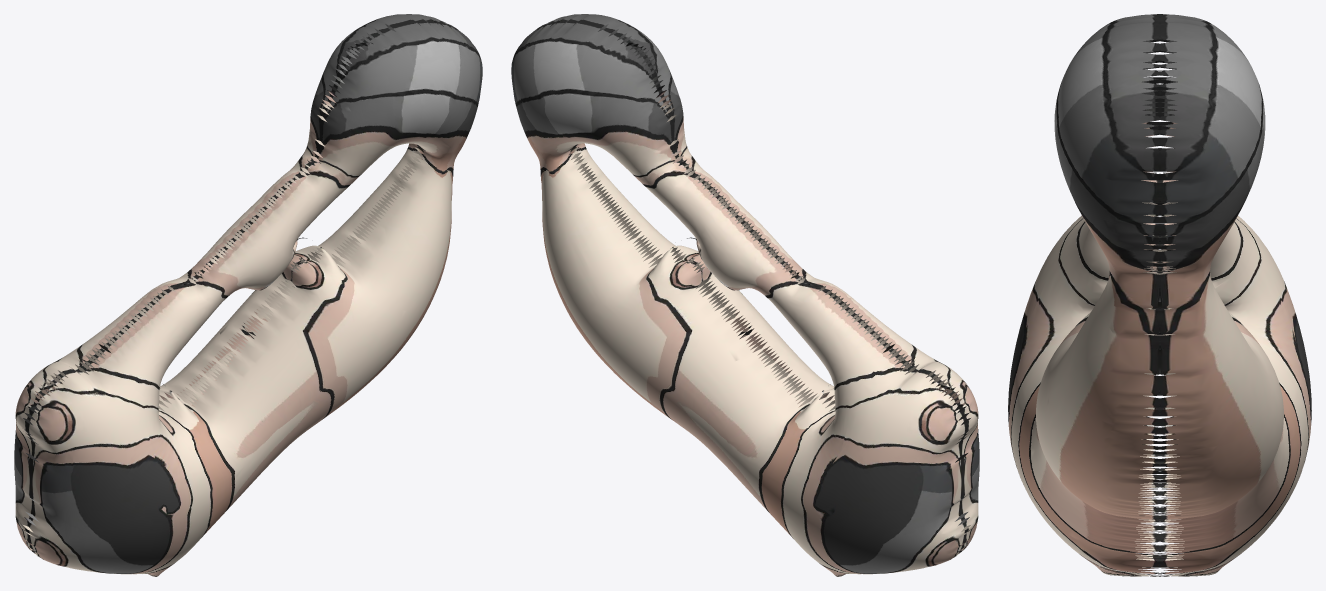
Rendered from front_elbow_pipe.glb.
The picture shows the model from 3 angles, left to right: view 1: azimuth 30°, elevation 25°; view 2: azimuth 150°, elevation 25°; view 3: azimuth 270°, elevation 25°; orthographic projection. The views are drawn at different scales.
Parts seen in each view (by area): view 1: front_elbow_pipe; view 2: front_elbow_pipe; view 3: front_elbow_pipe.
Boxes of the visible parts, left/top/right/bottom form: front_elbow_pipe: left=14, top=14, right=482, bottom=576; front_elbow_pipe: left=511, top=14, right=979, bottom=576; front_elbow_pipe: left=1008, top=14, right=1311, bottom=576.
Size of the model in its own units: 0.9888 by 1.01 by 0.3728.
Materials: 1 (1 with a texture image).
